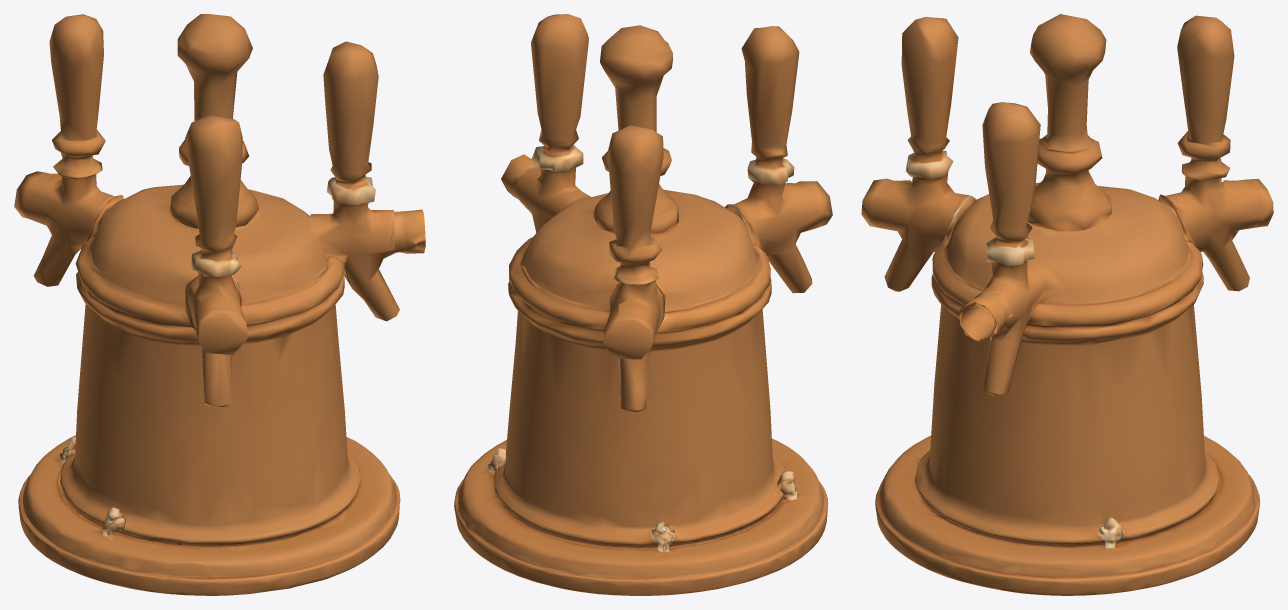
The model's file is zapfanlage.glb.
The picture shows the model from 3 angles, left to right: view 1: azimuth 30°, elevation 25°; view 2: azimuth 150°, elevation 25°; view 3: azimuth 270°, elevation 25°; orthographic projection. The views are drawn at different scales.
Parts seen in each view (by area): view 1: tripo_node_cbd97377-0a72-4c9a-bd70-49e15de10745; view 2: tripo_node_cbd97377-0a72-4c9a-bd70-49e15de10745; view 3: tripo_node_cbd97377-0a72-4c9a-bd70-49e15de10745.
Part boxes in pixels (x1,y1,x2,y2): tripo_node_cbd97377-0a72-4c9a-bd70-49e15de10745: (14, 14, 425, 595); tripo_node_cbd97377-0a72-4c9a-bd70-49e15de10745: (454, 14, 832, 595); tripo_node_cbd97377-0a72-4c9a-bd70-49e15de10745: (861, 14, 1273, 595).
Bounding box in the file's own units: 0.7067 × 0.9794 × 0.7308.
1 material, 1 textured.
